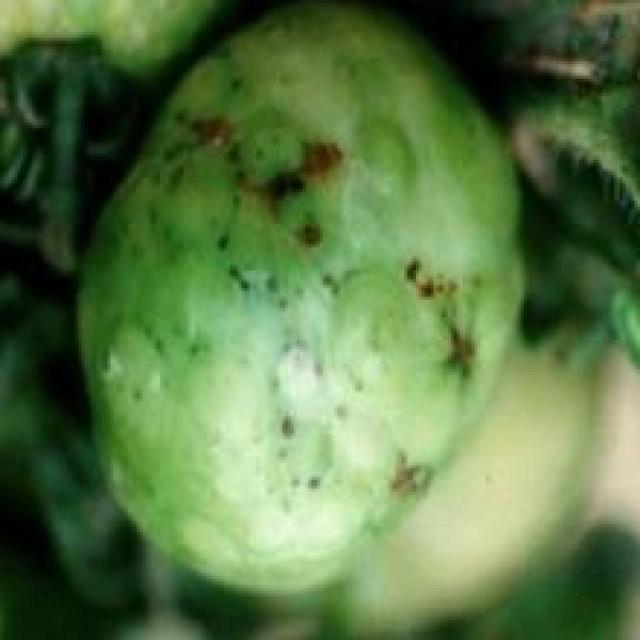Spotted wilt Virus Fruit: (46, 2, 352, 404)
